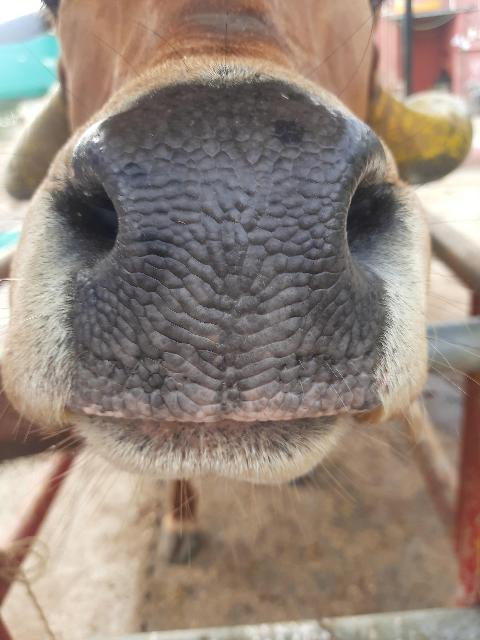Muzzle: (88, 116, 373, 418)
